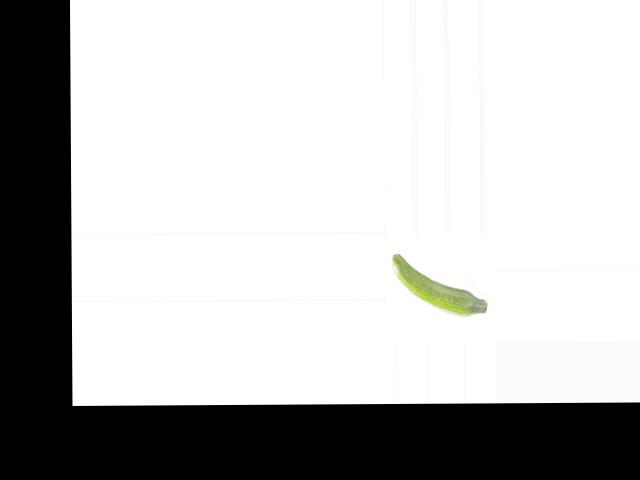cucumber: (392, 252, 488, 316)
